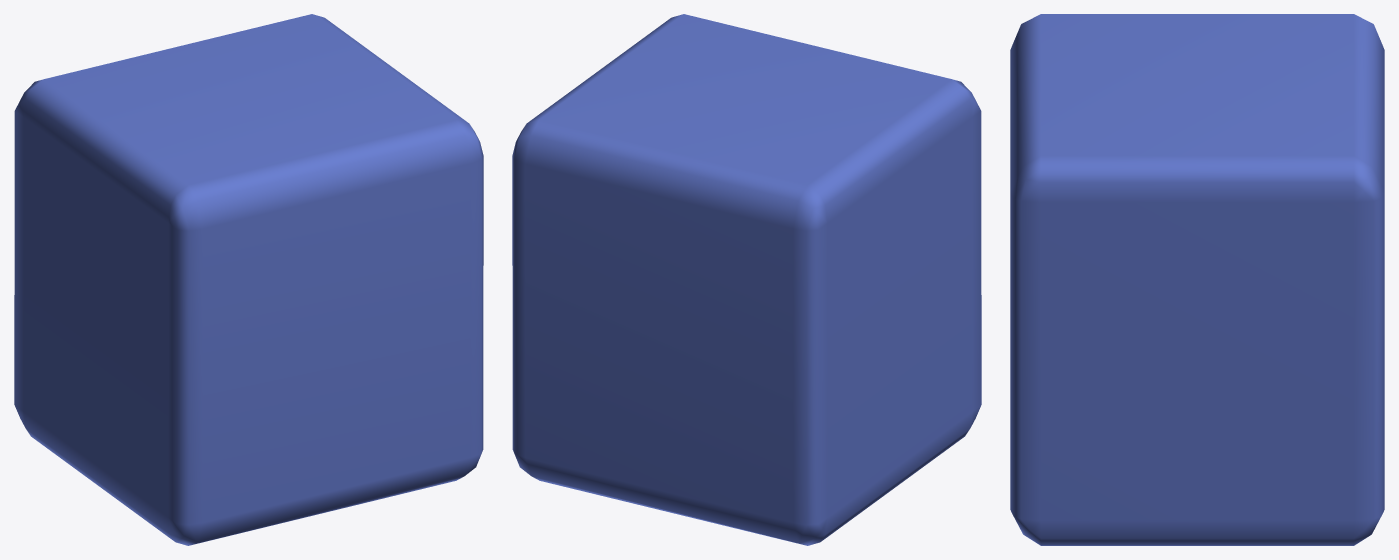
3 views of the same model, side by side, from view 1: azimuth 30°, elevation 25°; view 2: azimuth 150°, elevation 25°; view 3: azimuth 270°, elevation 25° (orthographic). The views are drawn at different scales.
Visible parts, largest first — view 1: polySurface493; view 2: polySurface493; view 3: polySurface493.
Boxes of the visible parts, <box> form: polySurface493: <box>14,14,483,545</box>; polySurface493: <box>512,14,981,545</box>; polySurface493: <box>1010,14,1384,545</box>.
Bounding box in the file's own units: 6.6 × 7.38 × 6.41.
